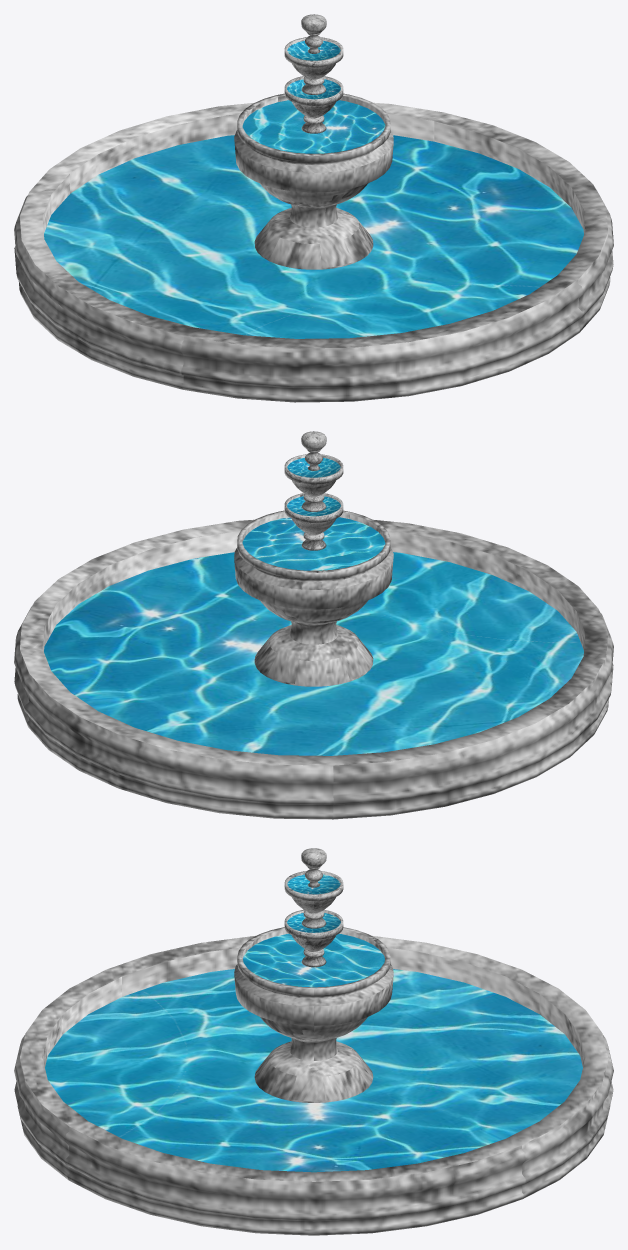
The model's file is Fonte 3.fbx.
3 renders of one model, top to bottom at view 1: azimuth 30°, elevation 25°; view 2: azimuth 150°, elevation 25°; view 3: azimuth 270°, elevation 25°, orthographic.
Parts seen in each view (by area): view 1: Base, Primeiro Nivel, Terceiro Nivel, Segundo Nivel, Topo; view 2: Base, Primeiro Nivel, Terceiro Nivel, Segundo Nivel, Topo; view 3: Base, Primeiro Nivel, Terceiro Nivel, Segundo Nivel, Topo.
Part boxes in pixels (left/top/right/bottom): Base: left=14, top=102, right=613, bottom=402; Primeiro Nivel: left=234, top=93, right=393, bottom=269; Terceiro Nivel: left=284, top=37, right=343, bottom=94; Segundo Nivel: left=284, top=76, right=343, bottom=133; Topo: left=301, top=14, right=326, bottom=53; Base: left=14, top=519, right=613, bottom=819; Primeiro Nivel: left=234, top=510, right=393, bottom=686; Terceiro Nivel: left=284, top=454, right=343, bottom=511; Segundo Nivel: left=284, top=493, right=343, bottom=550; Topo: left=301, top=431, right=326, bottom=470; Base: left=14, top=935, right=613, bottom=1235; Primeiro Nivel: left=234, top=927, right=393, bottom=1102; Terceiro Nivel: left=284, top=871, right=343, bottom=928; Segundo Nivel: left=284, top=910, right=343, bottom=967; Topo: left=301, top=848, right=326, bottom=887.
Bounding box in the file's own units: 510 × 243 × 510.
1 material, 1 textured.
